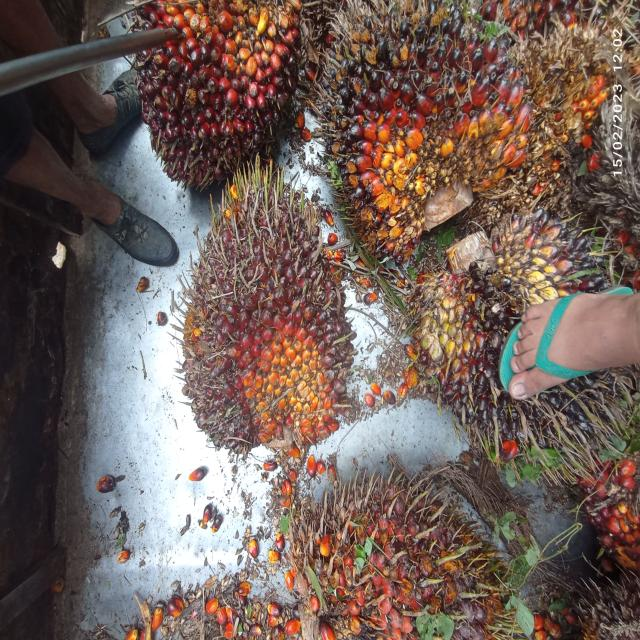fraksi 00: (308, 0, 524, 301)
fraksi 1: (149, 163, 365, 497), (122, 0, 328, 188)
fraksi 4: (295, 481, 517, 640)
